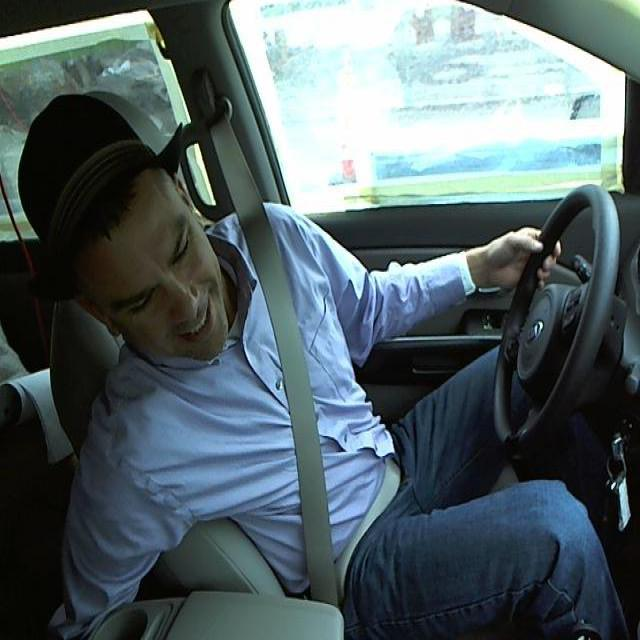seatbelt: (221, 183, 406, 626)
